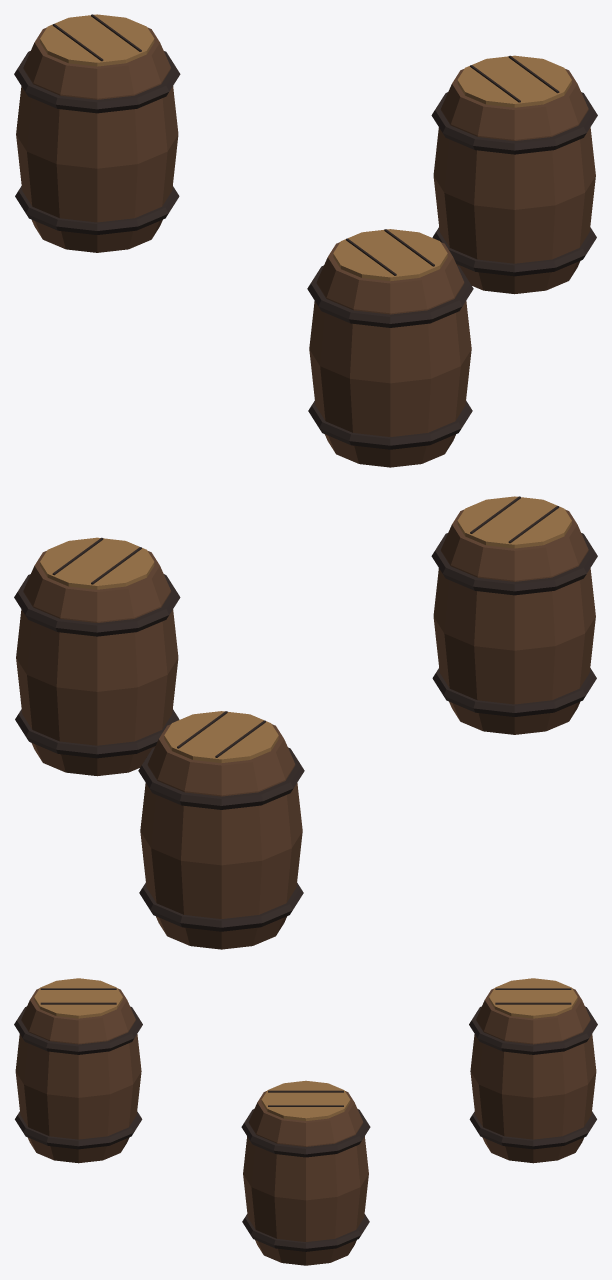
Rendered from PirateCove_BarrelChicane_Standard.glb.
3 renders of one model, top to bottom at view 1: azimuth 30°, elevation 25°; view 2: azimuth 150°, elevation 25°; view 3: azimuth 270°, elevation 25°, orthographic. The views are drawn at different scales.
Visible parts, largest first — view 1: PirateCove_BarrelChicane_Standard; view 2: PirateCove_BarrelChicane_Standard; view 3: PirateCove_BarrelChicane_Standard.
Part boxes in pixels (left/top/right/bottom): PirateCove_BarrelChicane_Standard: left=14, top=14, right=597, bottom=467; PirateCove_BarrelChicane_Standard: left=14, top=496, right=597, bottom=949; PirateCove_BarrelChicane_Standard: left=14, top=978, right=597, bottom=1265.
Size of the model in its own units: 2.21 by 0.9614 by 3.47.
